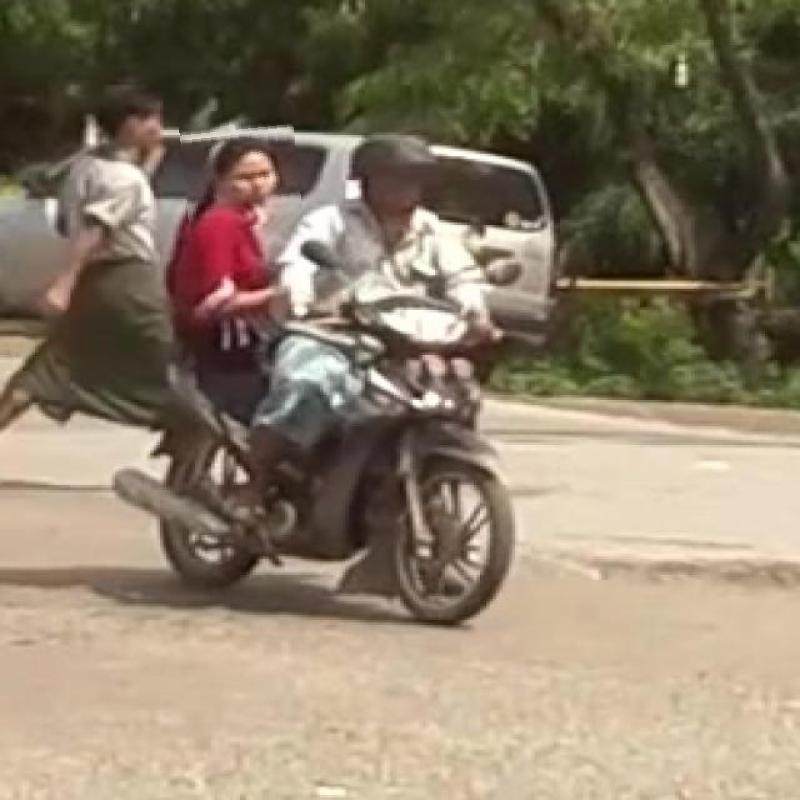nohelmet: (180, 106, 300, 230), (344, 97, 348, 103)
